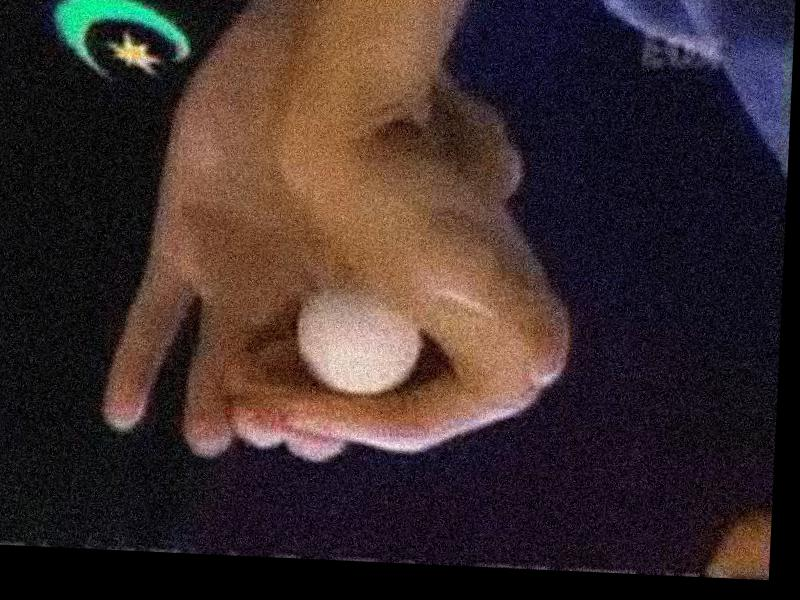Eggs: (292, 296, 426, 400)
